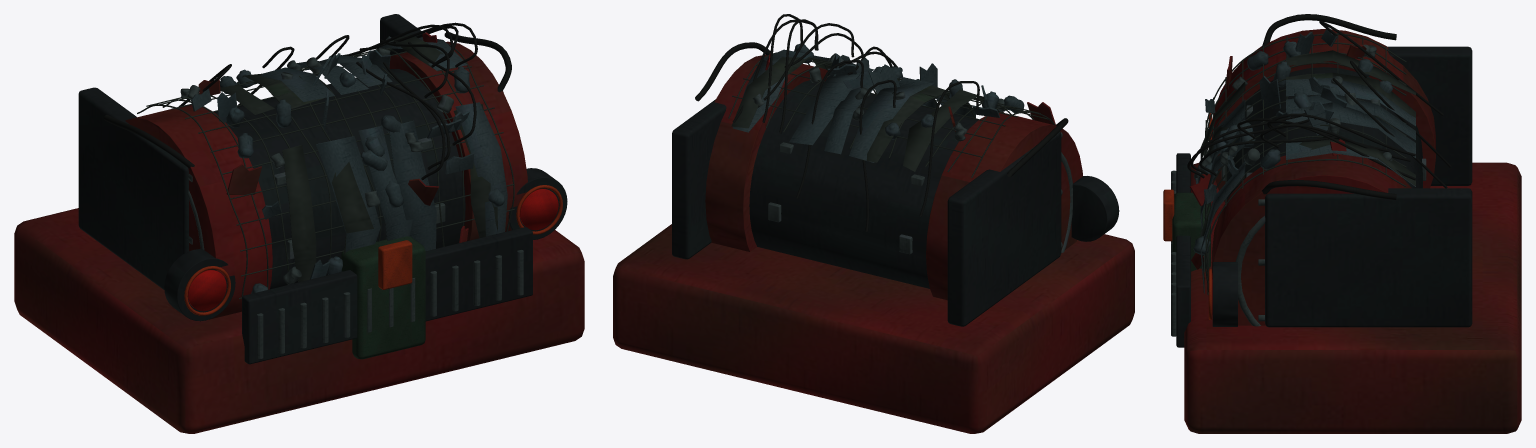
File: TideHeap.glb
3 views of the same model, side by side, from view 1: azimuth 30°, elevation 25°; view 2: azimuth 150°, elevation 25°; view 3: azimuth 270°, elevation 25° (orthographic). The views are drawn at different scales.
Parts seen in each view (by area): view 1: VIS_RustSteel, VIS_CastIron, VIS_WastePlastic, VIS_DirtyCanvas, VIS_WetSteel, VIS_ForestCeramic, VIS_Rubber, VIS_SafetyOrange, VIS_HazardRed; view 2: VIS_RustSteel, VIS_CastIron, VIS_WastePlastic, VIS_DirtyCanvas, VIS_Rubber, VIS_WetSteel; view 3: VIS_RustSteel, VIS_CastIron, VIS_WastePlastic, VIS_DirtyCanvas, VIS_Rubber, VIS_WetSteel, VIS_ForestCeramic, VIS_SafetyOrange.
Part boxes in pixels (left/top/right/bottom): VIS_RustSteel: left=14, top=32, right=584, bottom=433; VIS_CastIron: left=78, top=14, right=567, bottom=364; VIS_WastePlastic: left=191, top=35, right=507, bottom=293; VIS_DirtyCanvas: left=137, top=34, right=514, bottom=298; VIS_WetSteel: left=180, top=36, right=523, bottom=358; VIS_ForestCeramic: left=341, top=236, right=425, bottom=359; VIS_Rubber: left=104, top=22, right=511, bottom=180; VIS_SafetyOrange: left=184, top=185, right=562, bottom=315; VIS_HazardRed: left=188, top=188, right=558, bottom=311; VIS_RustSteel: left=613, top=53, right=1134, bottom=433; VIS_CastIron: left=672, top=80, right=1119, bottom=326; VIS_WastePlastic: left=732, top=43, right=1024, bottom=162; VIS_DirtyCanvas: left=728, top=52, right=1055, bottom=177; VIS_Rubber: left=695, top=14, right=1068, bottom=231; VIS_WetSteel: left=752, top=53, right=1072, bottom=254; VIS_RustSteel: left=1184, top=29, right=1521, bottom=433; VIS_CastIron: left=1176, top=46, right=1472, bottom=347; VIS_WastePlastic: left=1193, top=29, right=1415, bottom=293; VIS_DirtyCanvas: left=1200, top=31, right=1415, bottom=295; VIS_Rubber: left=1187, top=14, right=1451, bottom=199; VIS_WetSteel: left=1171, top=44, right=1426, bottom=336; VIS_ForestCeramic: left=1172, top=192, right=1210, bottom=271; VIS_SafetyOrange: left=1163, top=113, right=1211, bottom=319.
Size of the model in its own units: 3.75 by 2.6 by 2.98.
9 materials, 9 textured.
